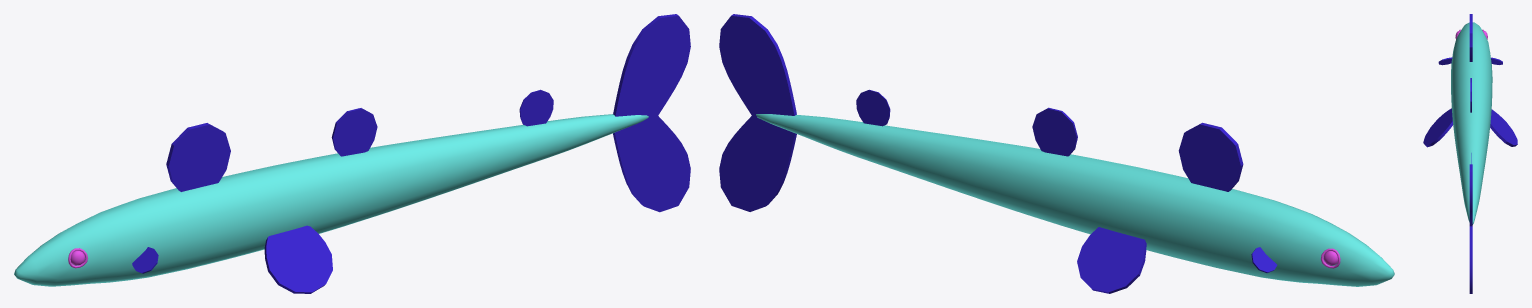
Rendered from poissonplanete_L.fbx.
3 views of the same model, side by side, from view 1: azimuth 30°, elevation 25°; view 2: azimuth 150°, elevation 25°; view 3: azimuth 270°, elevation 25° (orthographic). The views are drawn at different scales.
Parts seen in each view (by area): view 1: BezierCurve_L, Plane_002_L, Plane_001_L, Plane_L, Plane_003_L, Plane_004_L, Plane_006_L; view 2: BezierCurve_L, Plane_002_L, Plane_001_L, Plane_L, Plane_003_L, Plane_004_L; view 3: BezierCurve_L, Plane_001_L, Plane_002_L, Plane_L, Plane_006_L.
Part boxes in pixels (x1,y1,x2,y2): BezierCurve_L: (14, 114, 648, 286); Plane_002_L: (613, 14, 690, 212); Plane_001_L: (264, 225, 332, 293); Plane_L: (166, 123, 230, 191); Plane_003_L: (331, 108, 377, 156); Plane_004_L: (519, 89, 553, 126); Plane_006_L: (132, 247, 158, 273); BezierCurve_L: (756, 114, 1394, 286); Plane_002_L: (719, 14, 796, 211); Plane_001_L: (1077, 227, 1146, 293); Plane_L: (1178, 122, 1243, 191); Plane_003_L: (1032, 107, 1077, 156); Plane_004_L: (856, 89, 890, 126); BezierCurve_L: (1451, 22, 1492, 224); Plane_001_L: (1423, 108, 1517, 147); Plane_002_L: (1469, 164, 1472, 293); Plane_L: (1469, 14, 1472, 61); Plane_006_L: (1438, 57, 1502, 65).
Bounding box in the file's own units: 349 × 97.61 × 65.72.
